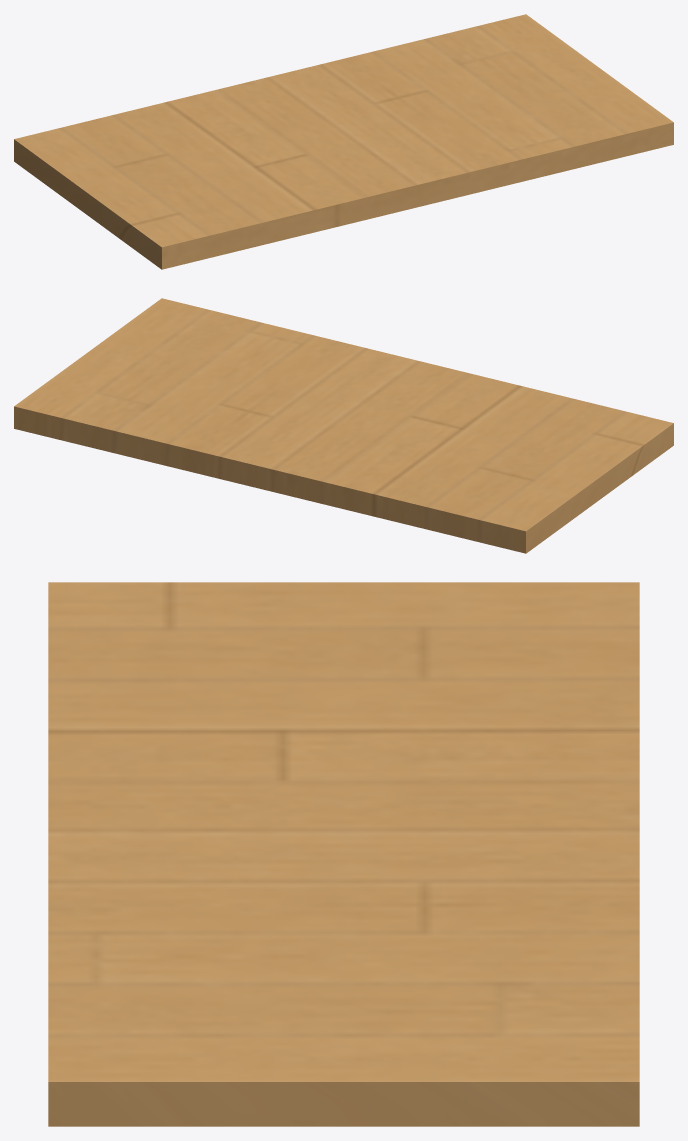
File: Floor_Carpet_Half_01.fbx
3 renders of one model, top to bottom at view 1: azimuth 30°, elevation 25°; view 2: azimuth 150°, elevation 25°; view 3: azimuth 270°, elevation 25°, orthographic. The views are drawn at different scales.
Parts seen in each view (by area): view 1: SM_Bld_Base_Floor_Combined_01.001; view 2: SM_Bld_Base_Floor_Combined_01.001; view 3: SM_Bld_Base_Floor_Combined_01.001.
Boxes of the visible parts, <box> form: SM_Bld_Base_Floor_Combined_01.001: <box>14,14,673,269</box>; SM_Bld_Base_Floor_Combined_01.001: <box>14,298,673,553</box>; SM_Bld_Base_Floor_Combined_01.001: <box>48,582,639,1126</box>.
Bounding box in the file's own units: 250 × 10.43 × 125.
